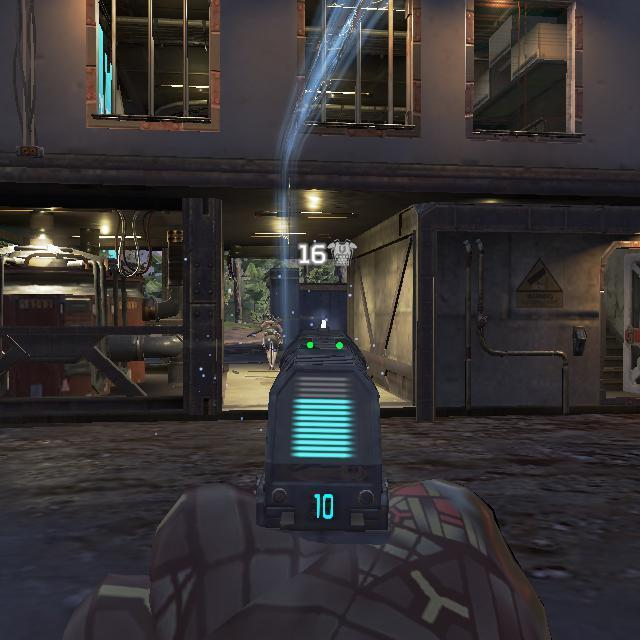avatar: (258, 311, 286, 373)
